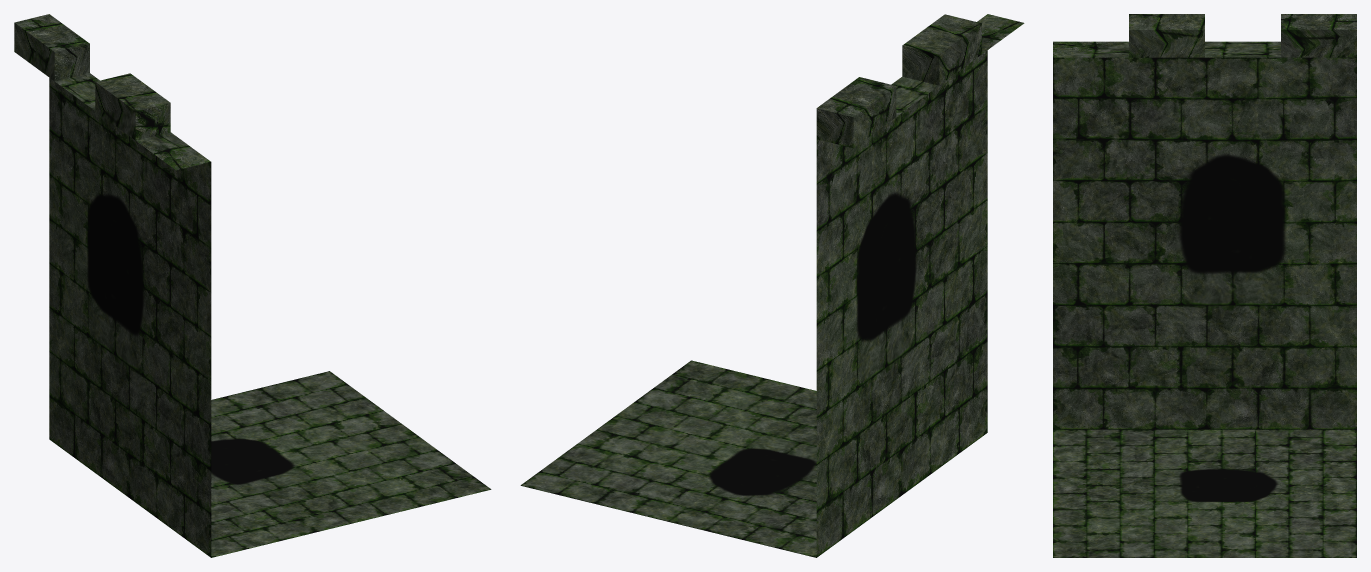
Rendered from wall_castle2.glb.
3 views of the same model, side by side, from view 1: azimuth 30°, elevation 25°; view 2: azimuth 150°, elevation 25°; view 3: azimuth 270°, elevation 25° (orthographic). The views are drawn at different scales.
Visible parts, largest first — view 1: ground; view 2: ground; view 3: ground.
Part boxes in pixels (x1,y1,x2,y2): ground: (14, 14, 491, 557); ground: (520, 14, 1024, 557); ground: (1053, 14, 1356, 557).
Bounding box in the file's own units: 2.25 × 2.9 × 2.
Materials: 1 (1 with a texture image).
